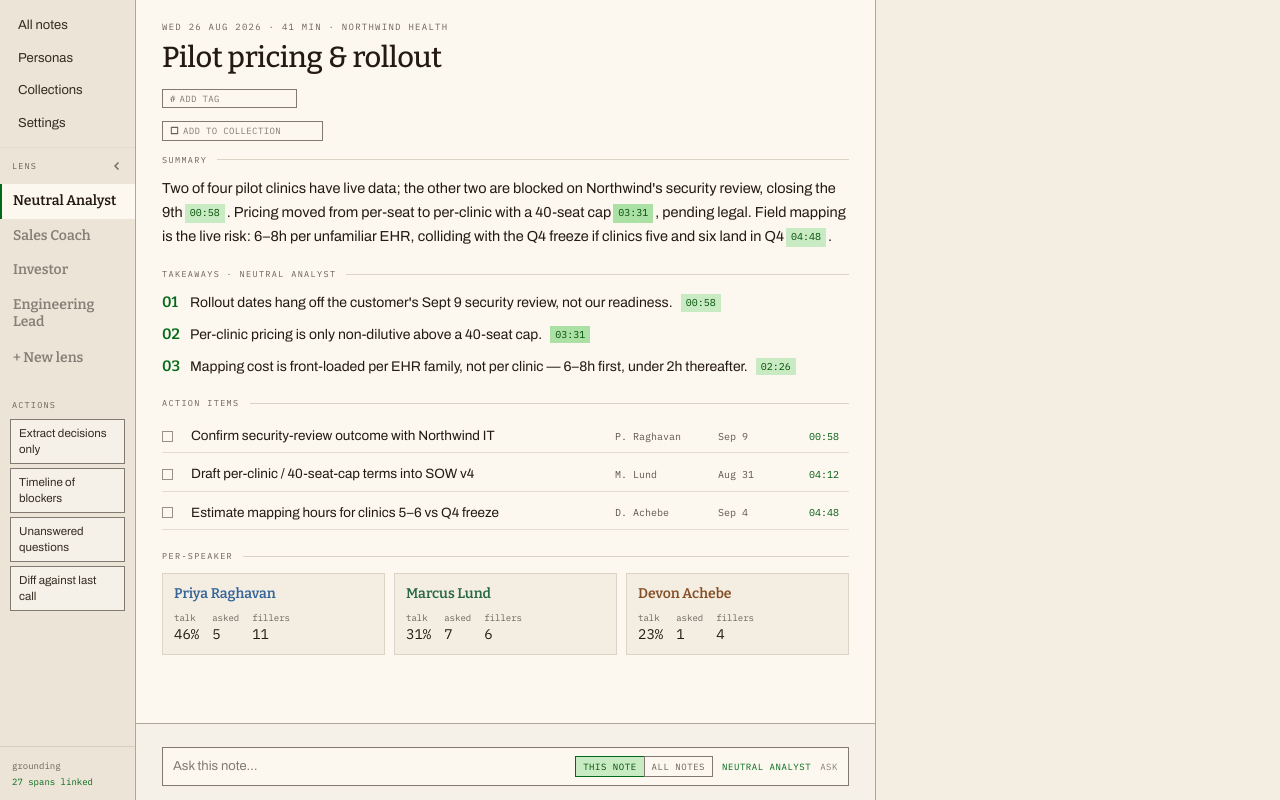
Test: below 1024px, the transcript overlay › closes by its own button too
Type keys "]"
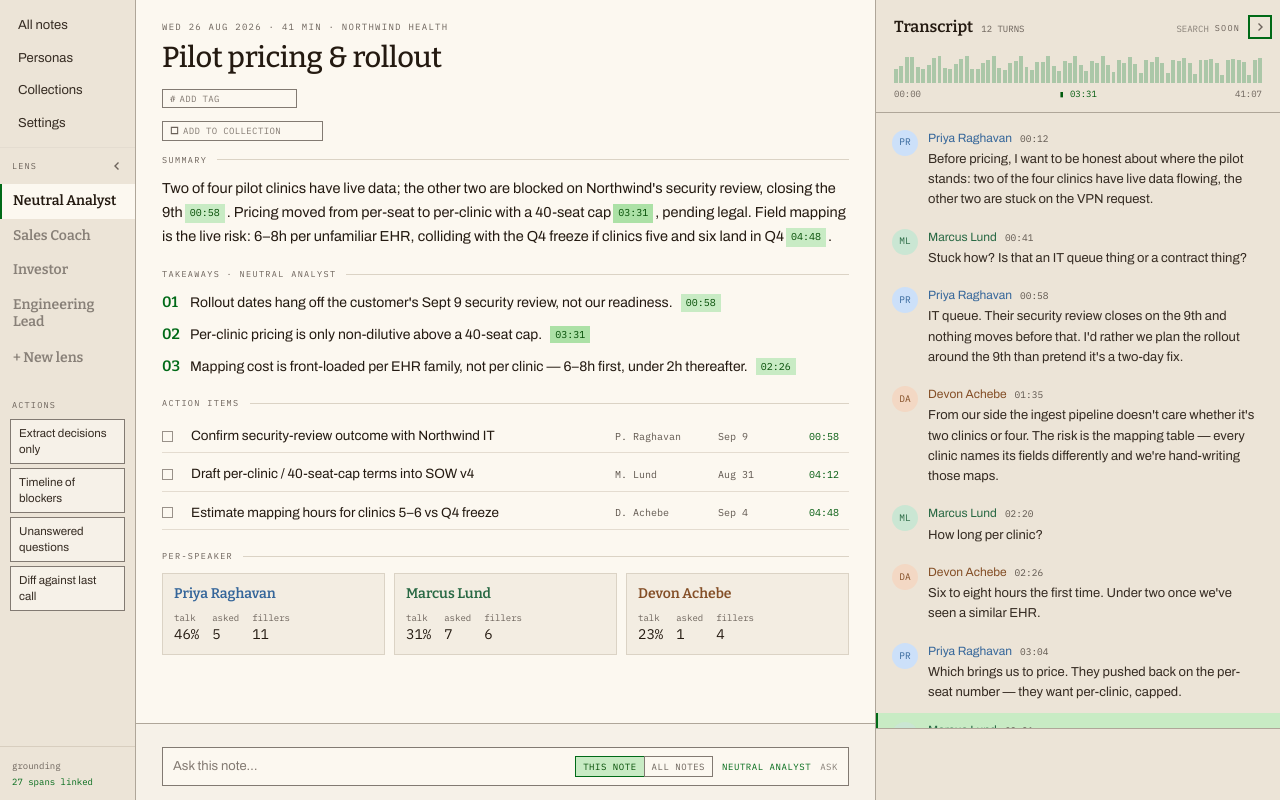
Expected: the element with id "transcript-pane" is shown, left=876, top=0, right=1279, bottom=799
Click the button named "Hide transcript" at (1260, 27), box left=1248, top=15, right=1272, bottom=39
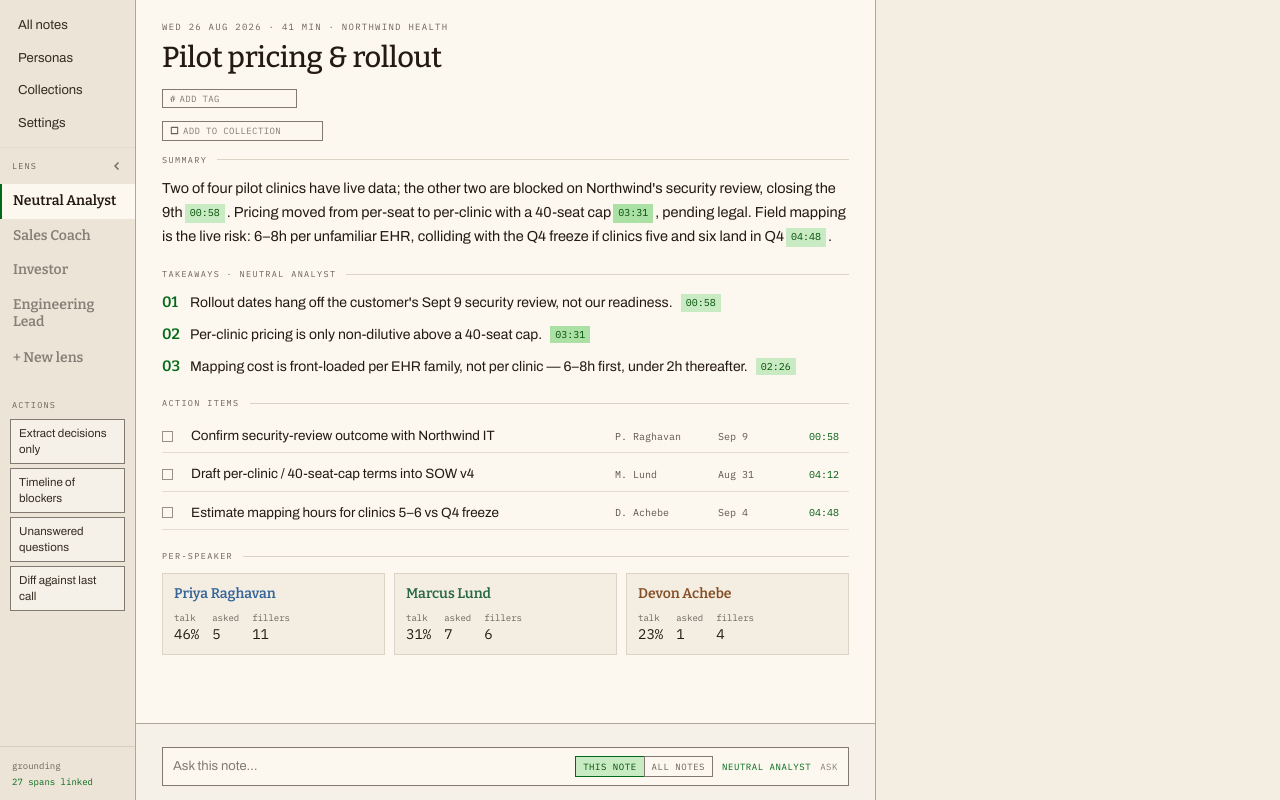
Expected: the button with id "transcript-pane" is gone
